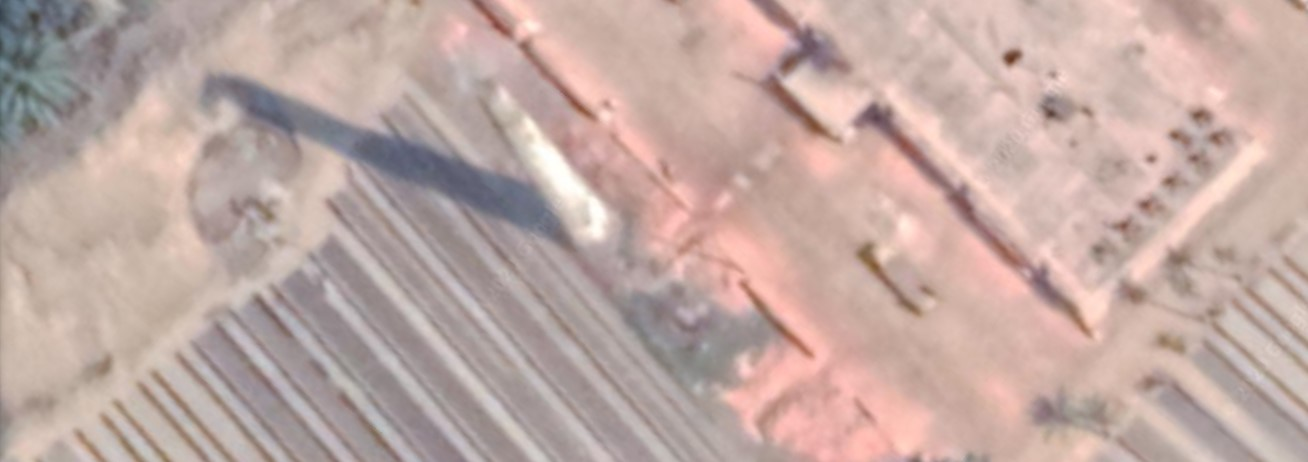kiln: (350, 2, 862, 462)
